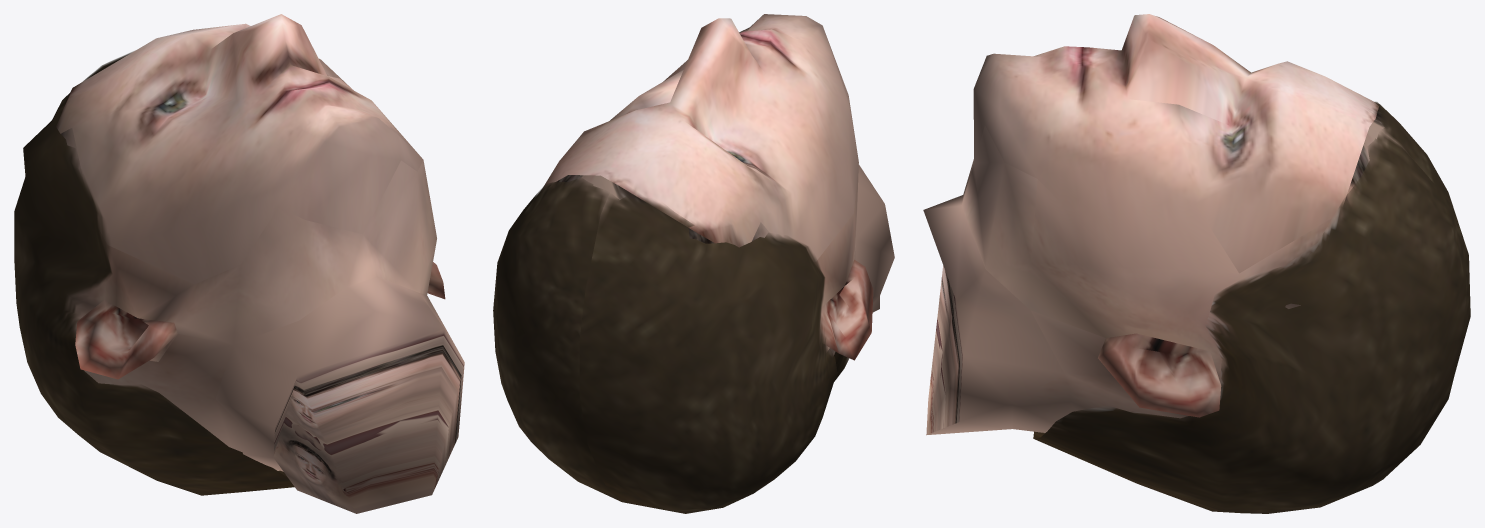
File: zucc.glb
3 renders of one model, left to right at view 1: azimuth 30°, elevation 25°; view 2: azimuth 150°, elevation 25°; view 3: azimuth 270°, elevation 25°, orthographic. The views are drawn at different scales.
Visible parts, largest first — view 1: Hair; view 2: Hair; view 3: Hair.
Part boxes in pixels (bbox=[...]): Hair: bbox=[14, 14, 464, 513]; Hair: bbox=[493, 14, 894, 513]; Hair: bbox=[923, 14, 1470, 513].
Bounding box in the file's own units: 18.82 × 25.59 × 25.98.
Materials: 2 (2 with a texture image).
